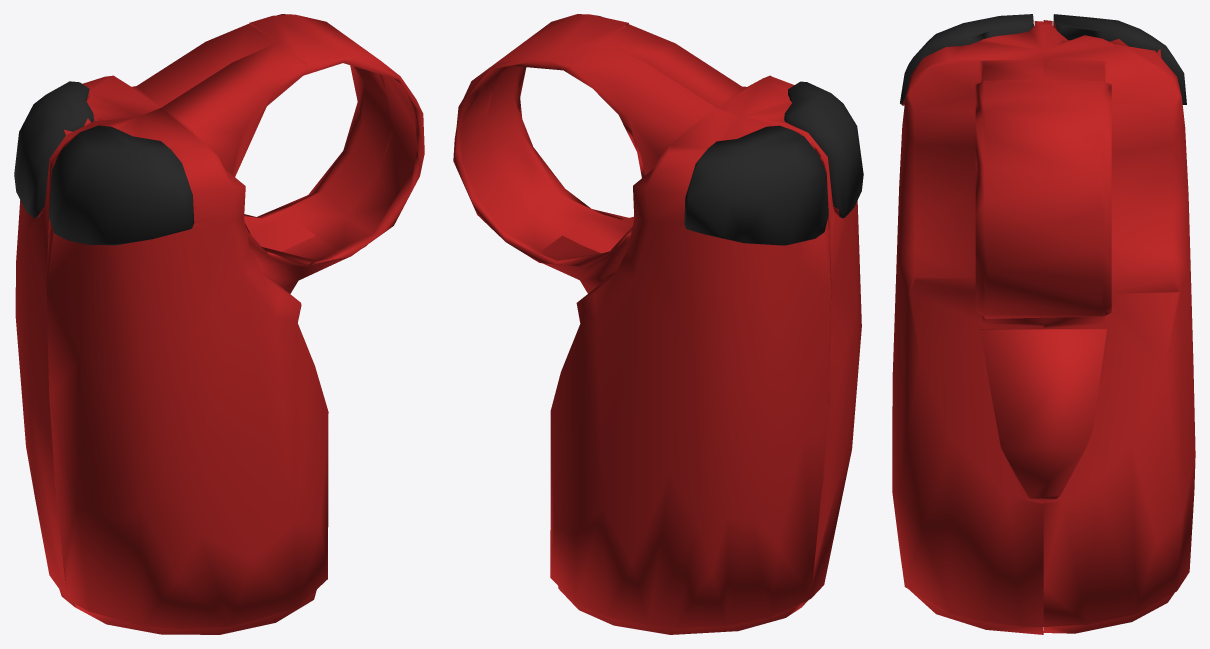
The model's file is E0_decimate.dae.
3 views of the same model, side by side, from view 1: azimuth 30°, elevation 25°; view 2: azimuth 150°, elevation 25°; view 3: azimuth 270°, elevation 25° (orthographic). The views are drawn at different scales.
Parts seen in each view (by area): view 1: E0; view 2: E0; view 3: E0.
Part boxes in pixels (<box>): E0: <box>14,14,424,634</box>; E0: <box>453,14,863,634</box>; E0: <box>892,14,1195,634</box>.
Bounding box in the file's own units: 0.2236 × 0.1584 × 0.3132.
